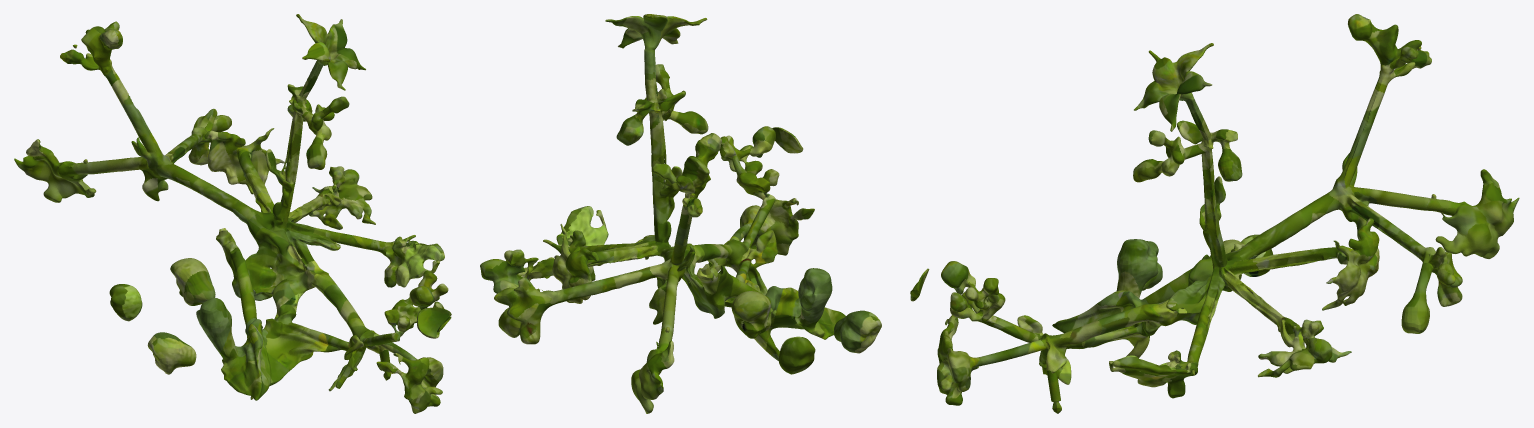
Rendered from manjistha.glb.
3 renders of one model, left to right at view 1: azimuth 30°, elevation 25°; view 2: azimuth 150°, elevation 25°; view 3: azimuth 270°, elevation 25°, orthographic. The views are drawn at different scales.
Visible parts, largest first — view 1: tripo_node_e22233ab-469a-48ce-a674-355665ba2f5d; view 2: tripo_node_e22233ab-469a-48ce-a674-355665ba2f5d; view 3: tripo_node_e22233ab-469a-48ce-a674-355665ba2f5d.
Boxes of the visible parts, x1,y1,x2,y2 form: tripo_node_e22233ab-469a-48ce-a674-355665ba2f5d: [14, 14, 451, 413]; tripo_node_e22233ab-469a-48ce-a674-355665ba2f5d: [480, 14, 881, 413]; tripo_node_e22233ab-469a-48ce-a674-355665ba2f5d: [910, 14, 1519, 413].
Size of the model in its own units: 0.6182 by 0.6813 by 1.
1 material, 1 textured.
